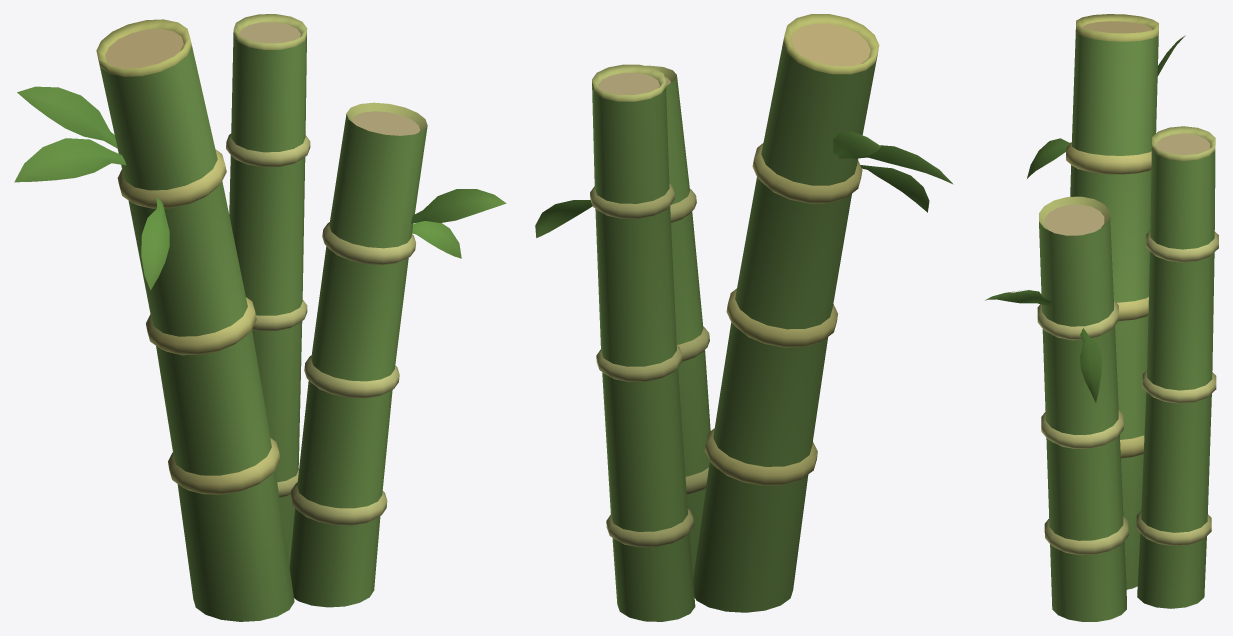
Rendered from Bamboo_Remake_Subtle.glb.
3 views of the same model, side by side, from view 1: azimuth 30°, elevation 25°; view 2: azimuth 150°, elevation 25°; view 3: azimuth 270°, elevation 25° (orthographic). The views are drawn at different scales.
Parts seen in each view (by area): view 1: Bamboo_Remake_Subtle; view 2: Bamboo_Remake_Subtle; view 3: Bamboo_Remake_Subtle.
Boxes of the visible parts, x1,y1,x2,y2 form: Bamboo_Remake_Subtle: (14, 14, 506, 621); Bamboo_Remake_Subtle: (535, 14, 953, 621); Bamboo_Remake_Subtle: (985, 14, 1218, 621).
Bounding box in the file's own units: 3.46 × 4.48 × 1.86.
